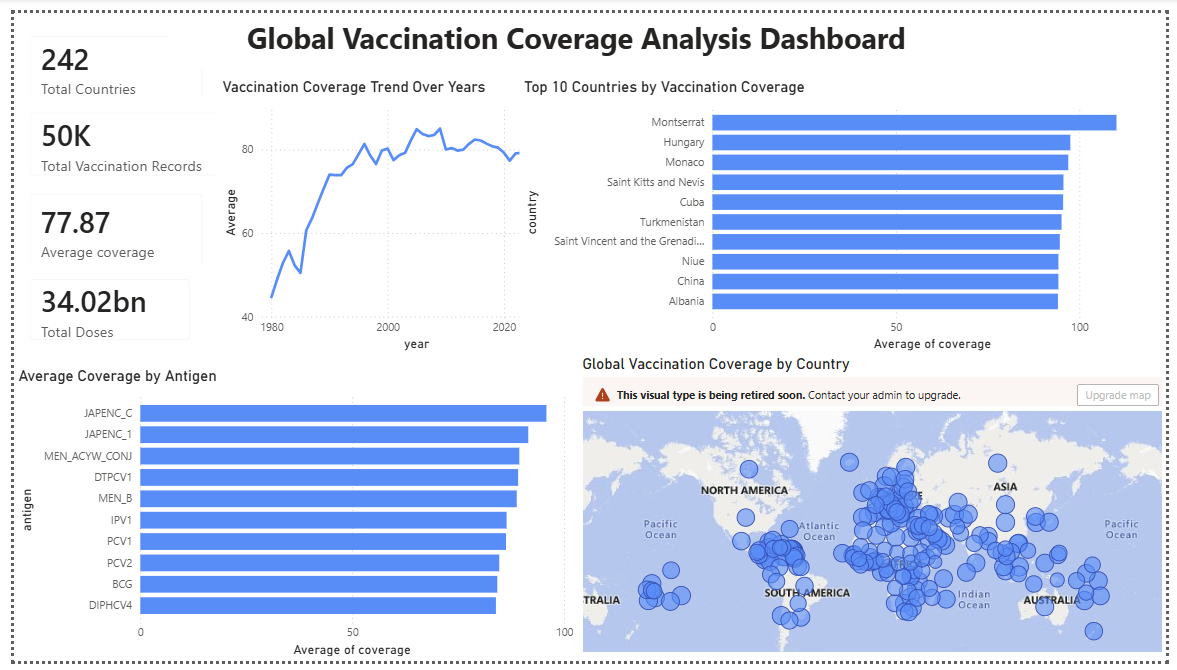

What the dashboard file says about the page in this screenshot:
{"tool":"powerbi","page":{"name":"Vaccination Coverage","canvas":[1280,720],"ordinal":0},"visuals":[{"type":"cardVisual","fields":{"Data":["Count(vaccination_analysis coverage.country)"]},"box":[0,8,226,104],"z":0},{"type":"cardVisual","fields":{"Data":["CountNonNull(vaccination_analysis coverage.country)"]},"box":[0,94,272,104],"z":1000},{"type":"cardVisual","fields":{"Data":["Avg(vaccination_analysis coverage.coverage)"]},"box":[0,184,226,116],"z":2000},{"type":"cardVisual","fields":{"Data":["Sum(vaccination_analysis coverage.doses)"]},"box":[0,278,212,102],"z":3000},{"type":"lineChart","title":"Vaccination Coverage Trend Over Years","fields":{"Category":["vaccination_analysis coverage.year"],"Y":["Avg(vaccination_analysis coverage.coverage)"]},"box":[226.7,71.7,400,308.3],"z":4000},{"type":"clusteredBarChart","title":"Top 10 Countries by Vaccination Coverage","fields":{"Category":["vaccination_analysis coverage.country"],"Y":["Avg(vaccination_analysis coverage.coverage)"]},"box":[561.7,71.7,718.3,308.3],"z":5000},{"type":"clusteredBarChart","title":"Average Coverage by Antigen","fields":{"Category":["vaccination_analysis coverage.antigen"],"Y":["Avg(vaccination_analysis coverage.coverage)"]},"box":[0,394,626,326],"z":6000},{"type":"map","title":"Global Vaccination Coverage by Country","fields":{"Category":["vaccination_analysis coverage.country"],"Size":["Avg(vaccination_analysis coverage.coverage)"]},"box":[626,380,654,330],"z":7000},{"type":"textbox","box":[170,0,910,60],"z":8000}]}

Visuals, with their boxes in screenshot pixels (x1, y1, x2, y2), scaled from the page's 1280x720 canvas onto the 1177x670 screenshot:
cardVisual - Count(vaccination_analysis coverage.country): (x1=0, y1=7, x2=208, y2=104)
cardVisual - CountNonNull(vaccination_analysis coverage.country): (x1=0, y1=87, x2=250, y2=184)
cardVisual - Avg(vaccination_analysis coverage.coverage): (x1=0, y1=171, x2=208, y2=279)
cardVisual - Sum(vaccination_analysis coverage.doses): (x1=0, y1=259, x2=195, y2=354)
"Vaccination Coverage Trend Over Years" lineChart: (x1=208, y1=67, x2=576, y2=354)
"Top 10 Countries by Vaccination Coverage" clusteredBarChart: (x1=517, y1=67, x2=1176, y2=354)
"Average Coverage by Antigen" clusteredBarChart: (x1=0, y1=367, x2=576, y2=669)
"Global Vaccination Coverage by Country" map: (x1=576, y1=354, x2=1176, y2=661)
textbox: (x1=156, y1=0, x2=993, y2=56)
